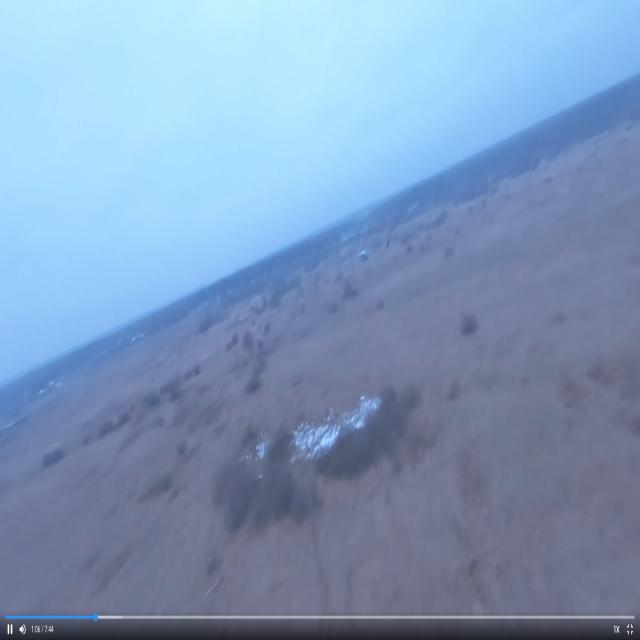planedrone: (351, 245, 382, 265)
